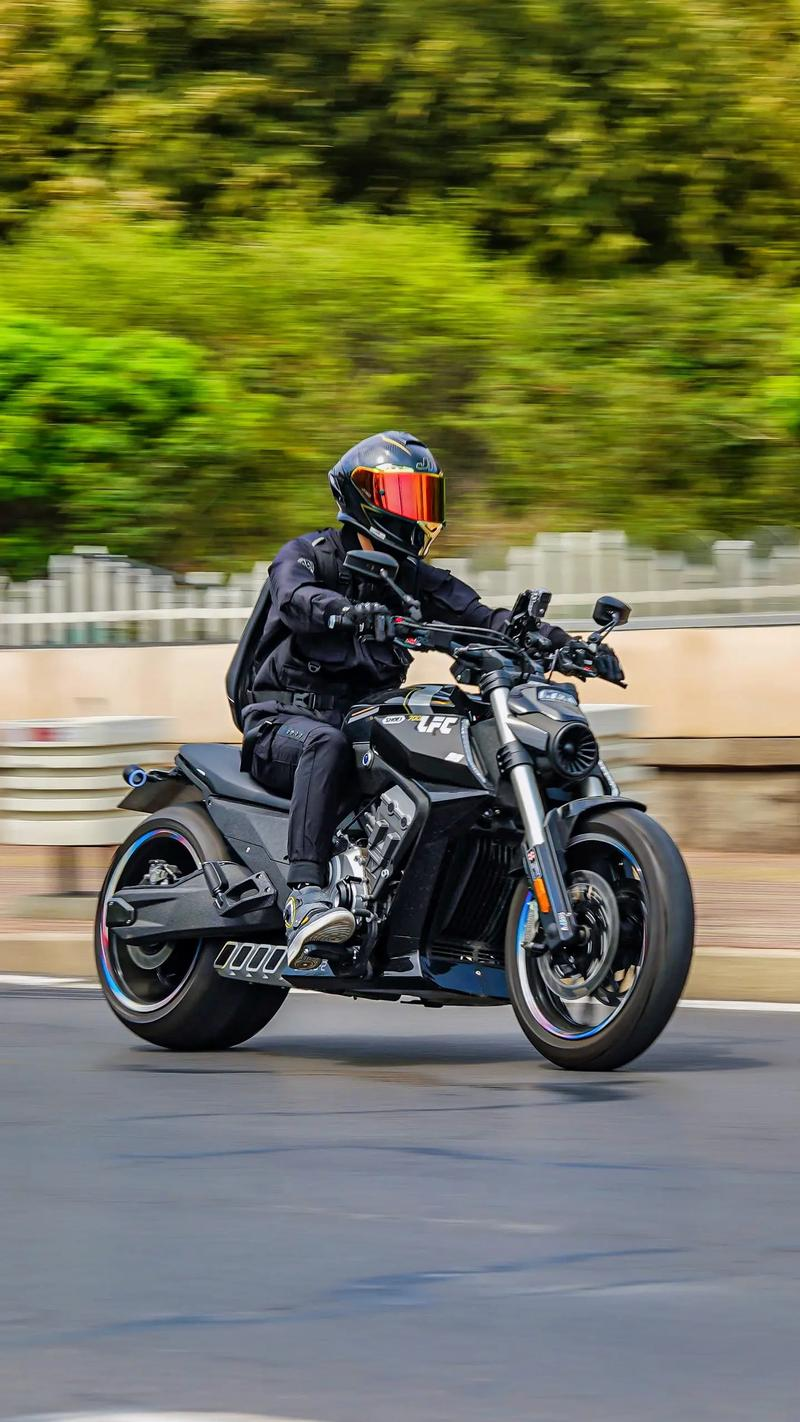摩托车: (67, 546, 739, 1091)
